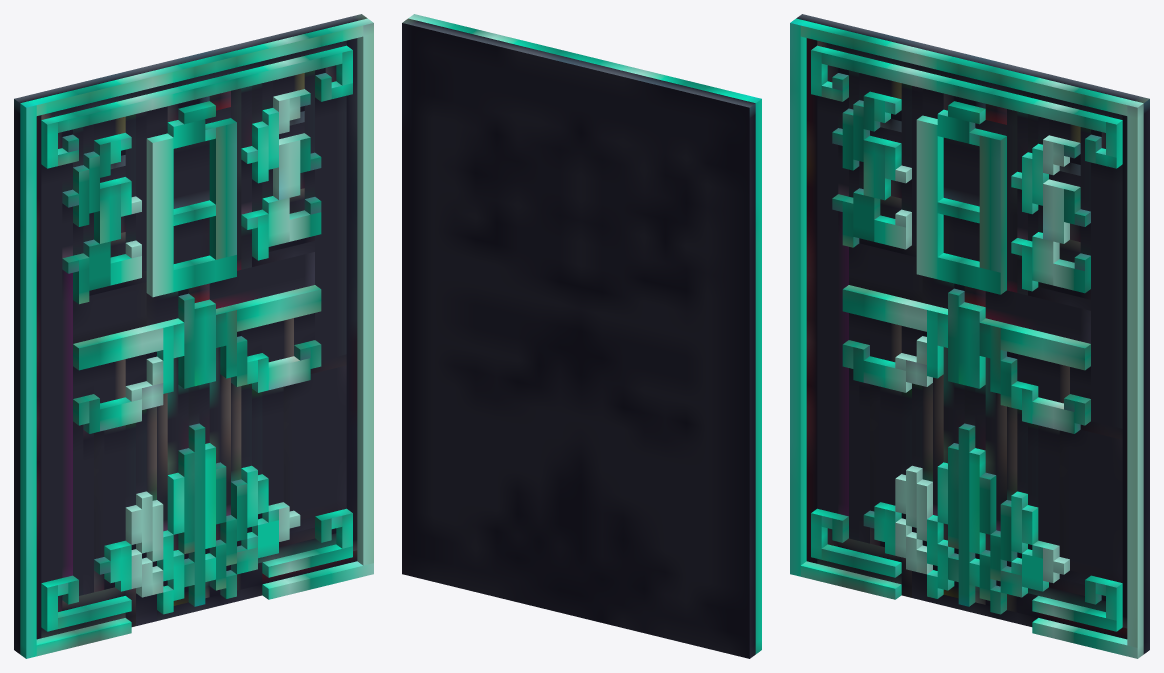
File: Billboard_Herb_00.fbx
The picture shows the model from 3 angles, left to right: view 1: azimuth 30°, elevation 25°; view 2: azimuth 150°, elevation 25°; view 3: azimuth 330°, elevation 25°; orthographic projection.
Visible parts, largest first — view 1: Billboard_Herb_00; view 2: Billboard_Herb_00; view 3: Billboard_Herb_00.
Part boxes in pixels (box(x1,y1,x2,y2)): Billboard_Herb_00: box(14, 14, 373, 658); Billboard_Herb_00: box(402, 14, 761, 658); Billboard_Herb_00: box(790, 14, 1149, 658).
Size of the model in its own units: 165 by 250 by 10.
